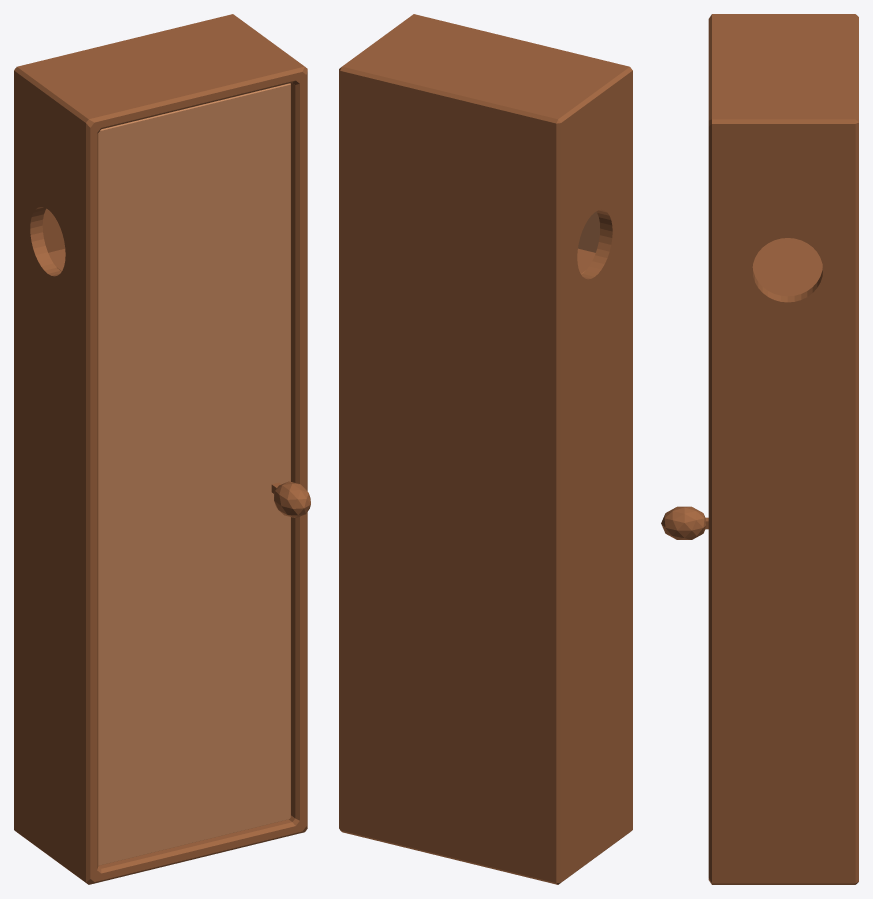
Rendered from holeshelf.glb.
3 views of the same model, side by side, from view 1: azimuth 30°, elevation 25°; view 2: azimuth 150°, elevation 25°; view 3: azimuth 270°, elevation 25° (orthographic).
Visible parts, largest first — view 1: Shelf A .002, Shelf A .001; view 2: Shelf A .001, Shelf A .002; view 3: Shelf A .001, Shelf A .002.
Boxes of the visible parts, box(x1,y1,x2,y2) form: Shelf A .002: box(98, 83, 310, 865); Shelf A .001: box(14, 14, 307, 884); Shelf A .001: box(339, 14, 632, 884); Shelf A .002: box(578, 211, 599, 252); Shelf A .001: box(708, 14, 858, 884); Shelf A .002: box(661, 506, 708, 539).
Size of the model in its own units: 2.45 by 8.07 by 1.89.
